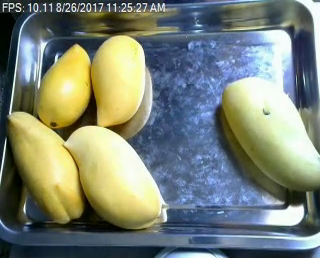Mango: (219, 75, 320, 190), (65, 123, 162, 229), (3, 111, 85, 222), (91, 34, 147, 126), (35, 42, 91, 129)
